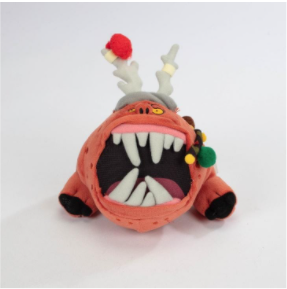toy: (68, 26, 212, 245)
